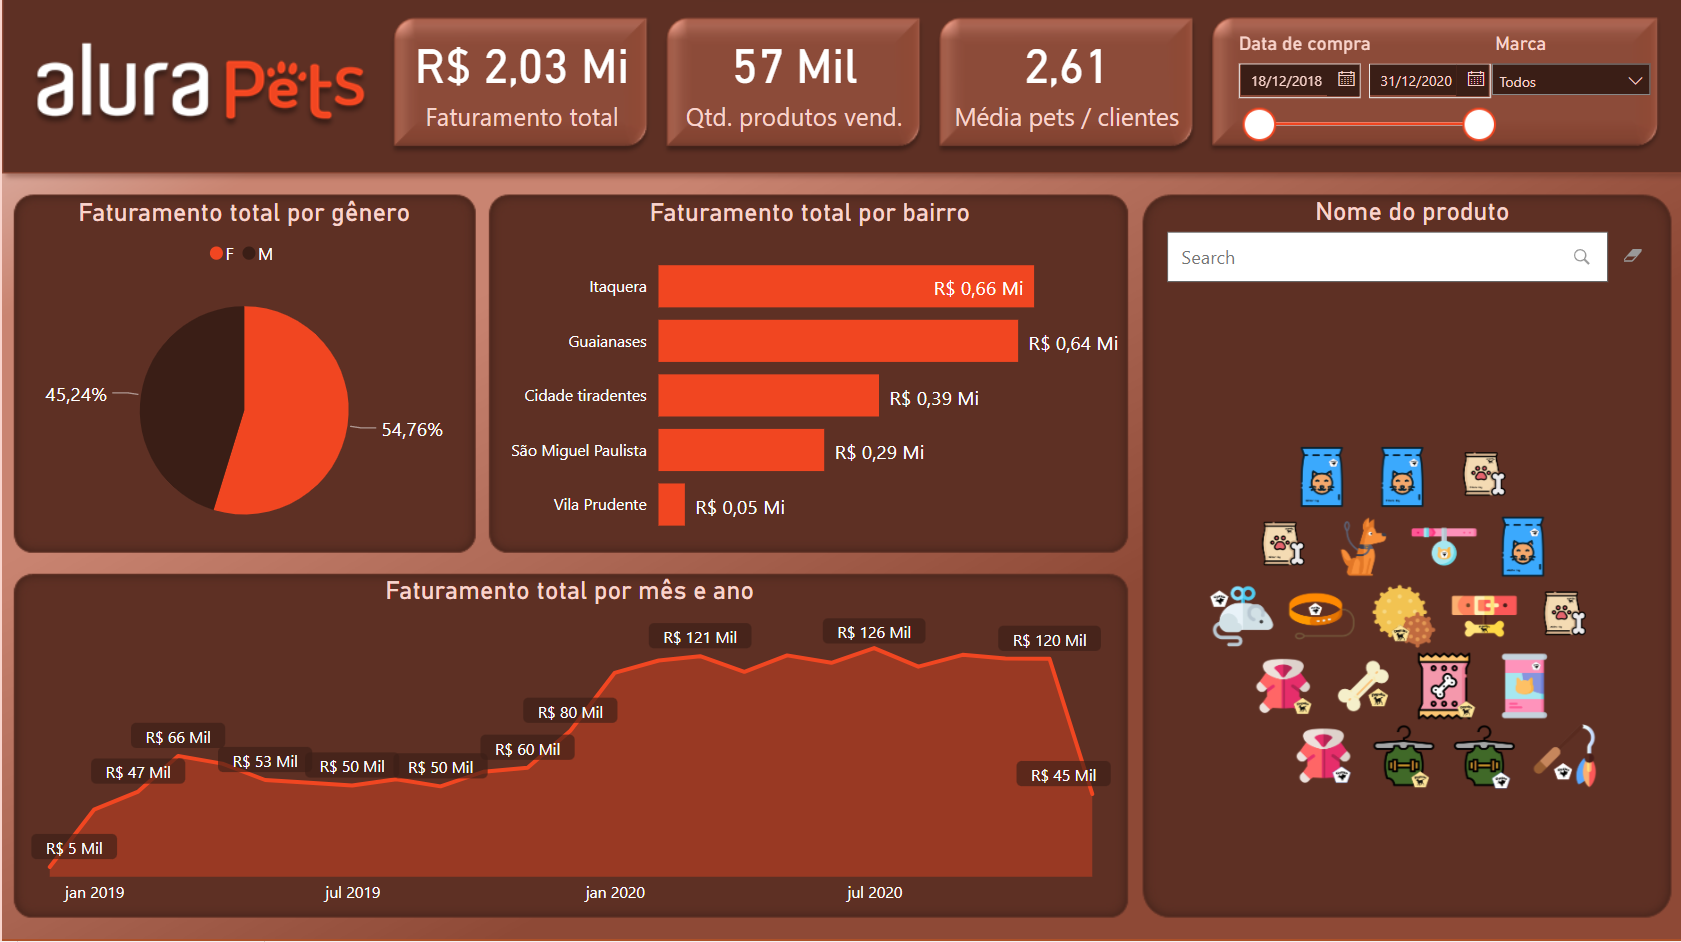

This screenshot's page, from the dashboard's own definition file:
{"tool":"powerbi","page":{"name":"Página 1","canvas":[1280,720],"ordinal":0},"visuals":[{"type":"card","fields":{"Values":["Vendas.Faturamento total"]},"box":[530.3,27.3,140.8,123.6],"z":0},{"type":"card","fields":{"Values":["Avg(Clientes.Pets)"]},"box":[835,27.3,139.4,123.6],"z":1000},{"type":"card","fields":{"Values":["Sum(Vendas.Quantidade)"]},"box":[671.1,27.3,163.8,123.6],"z":2000},{"type":"pieChart","title":"Faturamento total por gênero","fields":{"Category":["Clientes.Gênero"],"Y":["Vendas.Faturamento total"]},"box":[991.6,185.4,288.9,288.9],"z":3000},{"type":"clusteredBarChart","title":"Faturamento total por bairro","fields":{"Category":["Clientes.Bairro"],"Y":["Vendas.Faturamento total"]},"box":[488.6,185.4,503,288.9],"z":4000},{"type":"areaChart","title":"Faturamento total por mês e ano","fields":{"Category":["Vendas.Data de compra.Variation.Hierarquia de datas.Ano","Vendas.Data de compra.Variation.Hierarquia de datas.Trimestre","Vendas.Data de compra.Variation.Hierarquia de datas.Mês","Vendas.Data de compra.Variation.Hierarquia de datas.Dia"],"Y":["Vendas.Faturamento total"]},"box":[498.7,490.1,773.2,208.4],"z":5000},{"type":"ImageGrid_FC5183B9_926C_45E0_B5F7_0CE9EAF1DA9B","fields":{"ImageURLHQ":["Produtos.Url img"]},"box":[15.8,344.9,472.8,375.1],"z":6000},{"type":"textFilter25A4896A83E0487089E2B90C9AE57C8A","title":"Nome do produto","fields":{"field":["Produtos.Nome produto"]},"box":[81.9,317.6,342,86.2],"z":7000},{"type":"slicer","title":"Marca","fields":{"Values":["Produtos.Marca"]},"box":[1005.3,97.7,248.6,58.9],"z":8000},{"type":"slicer","title":"Data de compra","fields":{"Values":["Vendas.Data de compra"]},"box":[1009.6,17.2,241.4,161],"z":9000}]}

Visuals, with their boxes in screenshot pixels (x1, y1, x2, y2), scaled from the page's 1280x720 canvas onto the 1681x942 screenshot:
card - Vendas.Faturamento total: rect(696, 36, 881, 197)
card - Avg(Clientes.Pets): rect(1097, 36, 1280, 197)
card - Sum(Vendas.Quantidade): rect(881, 36, 1096, 197)
"Faturamento total por gênero" pieChart: rect(1302, 243, 1680, 621)
"Faturamento total por bairro" clusteredBarChart: rect(642, 243, 1302, 621)
"Faturamento total por mês e ano" areaChart: rect(655, 641, 1670, 914)
ImageGrid_FC5183B9_926C_45E0_B5F7_0CE9EAF1DA9B - Produtos.Url img: rect(21, 451, 642, 941)
"Nome do produto" textFilter25A4896A83E0487089E2B90C9AE57C8A: rect(108, 416, 557, 528)
"Marca" slicer: rect(1320, 128, 1647, 205)
"Data de compra" slicer: rect(1326, 23, 1643, 233)
